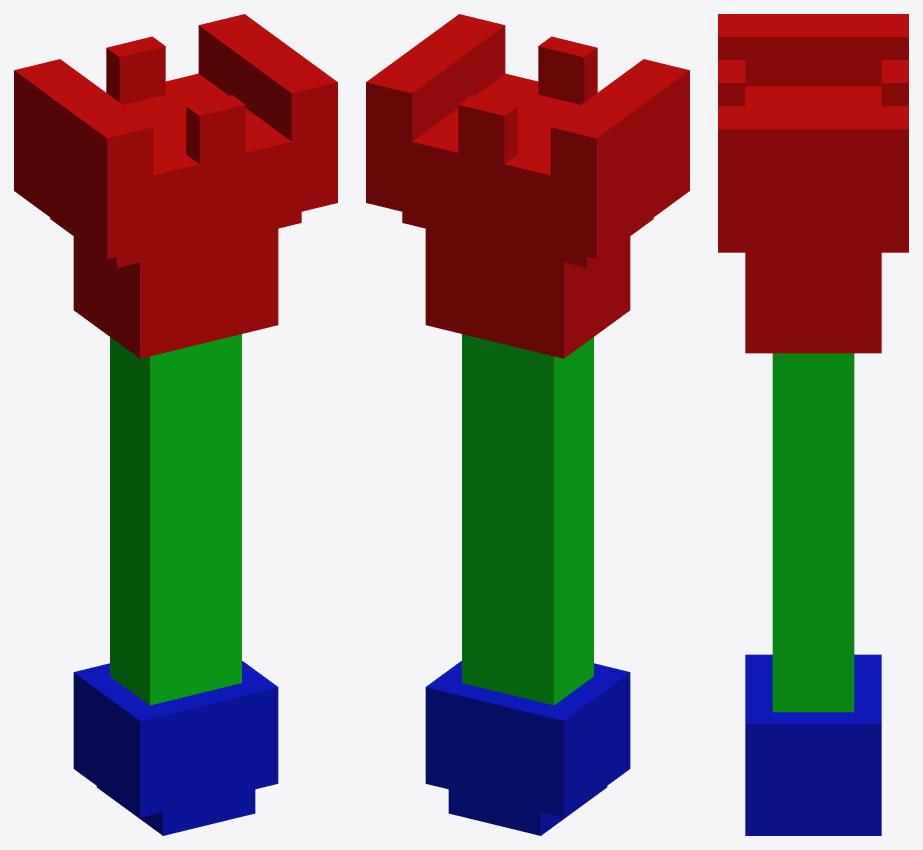
Rendered from torch.fbx.
3 renders of one model, left to right at view 1: azimuth 30°, elevation 25°; view 2: azimuth 150°, elevation 25°; view 3: azimuth 270°, elevation 25°, orthographic. The views are drawn at different scales.
Visible parts, largest first — view 1: palette; view 2: palette; view 3: palette.
Part boxes in pixels (left/top/right/bottom): palette: left=14, top=14, right=337, bottom=835; palette: left=366, top=14, right=689, bottom=835; palette: left=718, top=14, right=908, bottom=835.
Size of the model in its own units: 1 by 3 by 0.7.
